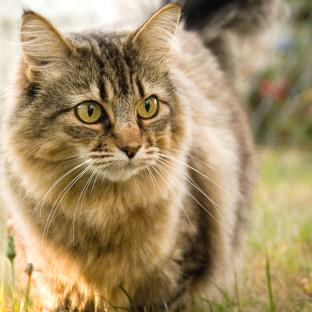Animal: (0, 3, 256, 312)
